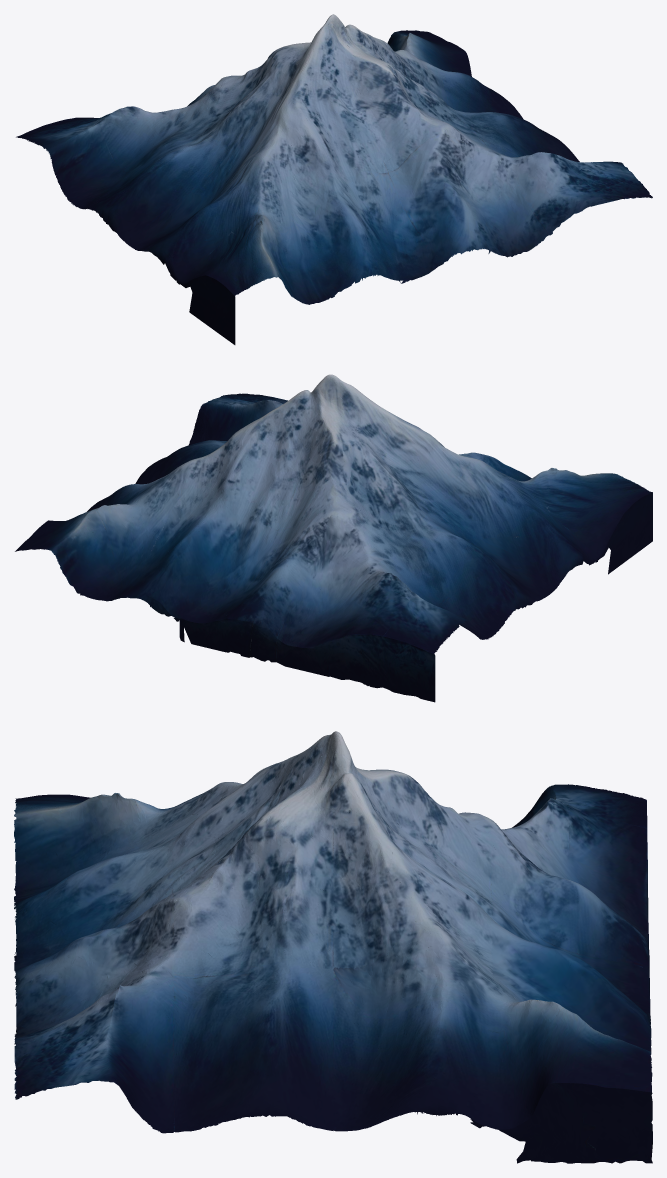
The model's file is mountain-web.glb.
3 views of the same model, one above another, from view 1: azimuth 30°, elevation 25°; view 2: azimuth 150°, elevation 25°; view 3: azimuth 270°, elevation 25° (orthographic). The views are drawn at different scales.
Visible parts, largest first — view 1: world; view 2: world; view 3: world.
Boxes of the visible parts, x1=… form: world: x1=16, y1=14, x2=652, y2=344; world: x1=15, y1=374, x2=652, y2=702; world: x1=14, y1=731, x2=652, y2=1163.
Size of the model in its own units: 0.9993 by 0.4478 by 0.9104.
1 material, 1 textured.
